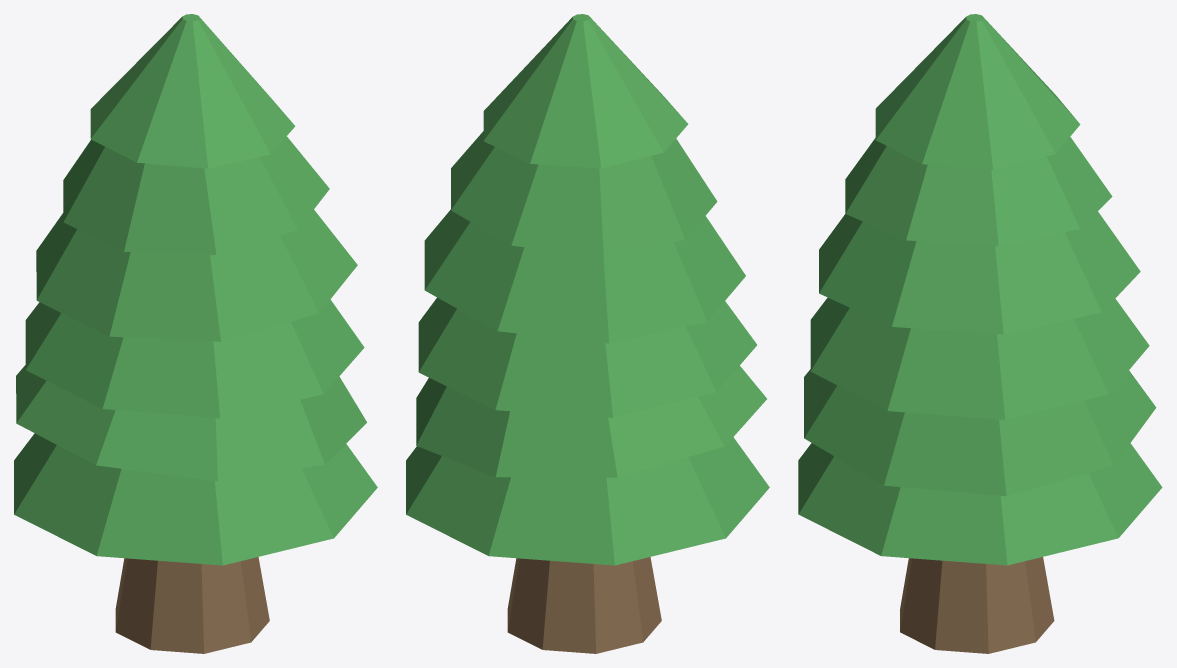
File: pine tree 3.fbx
3 views of the same model, side by side, from view 1: azimuth 30°, elevation 25°; view 2: azimuth 150°, elevation 25°; view 3: azimuth 270°, elevation 25° (orthographic).
Parts seen in each view (by area): view 1: xmas tree 1; view 2: xmas tree 1; view 3: xmas tree 1.
Boxes of the visible parts, x1,y1,x2,y2 form: xmas tree 1: (14,14,377,653); xmas tree 1: (406,14,769,653); xmas tree 1: (798,14,1162,653).
Bounding box in the file's own units: 1170 × 2107 × 1152.
